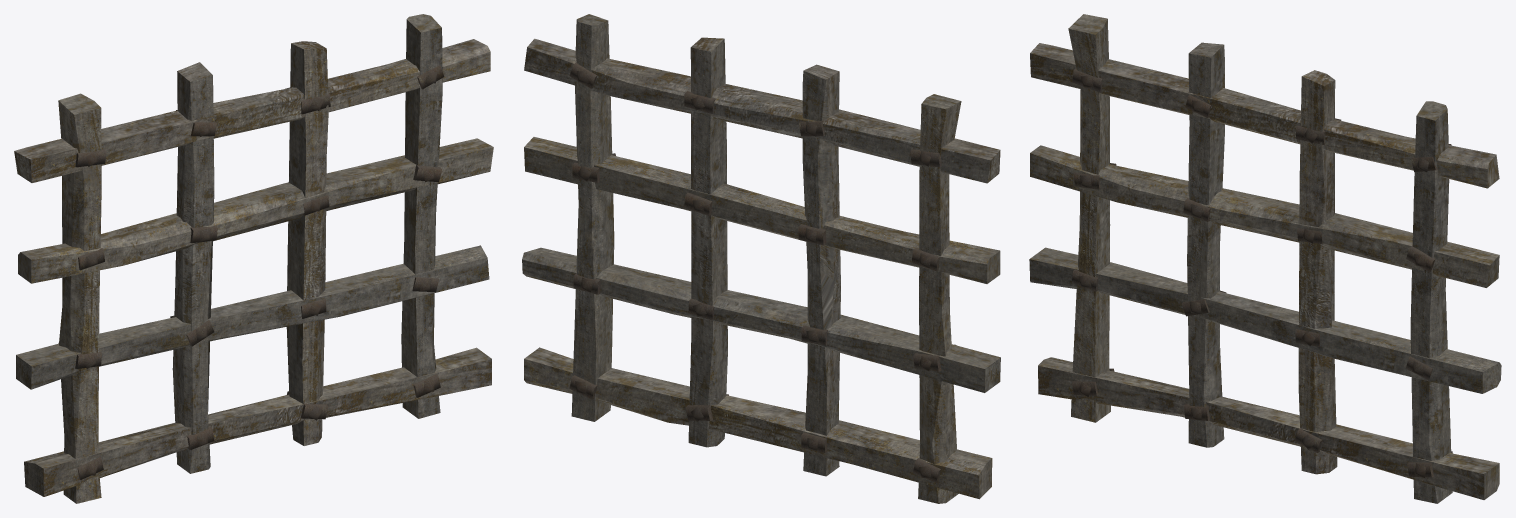
File: gate_portcullis.fbx
3 renders of one model, left to right at view 1: azimuth 30°, elevation 25°; view 2: azimuth 150°, elevation 25°; view 3: azimuth 330°, elevation 25°, orthographic.
Visible parts, largest first — view 1: gate_portcullis; view 2: gate_portcullis; view 3: gate_portcullis.
Part boxes in pixels (x1=…): gate_portcullis: x1=14, y1=14, x2=493, y2=503; gate_portcullis: x1=522, y1=14, x2=1000, y2=503; gate_portcullis: x1=1029, y1=14, x2=1501, y2=503.
Size of the model in its own units: 123 by 100 by 12.52.
